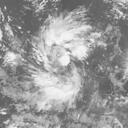cyclone: (30, 23, 87, 99)
